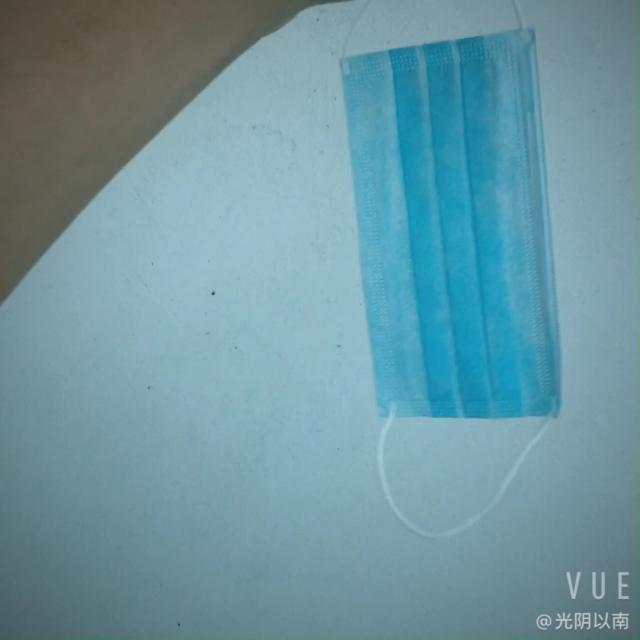non-organic waste: (337, 21, 592, 434)
